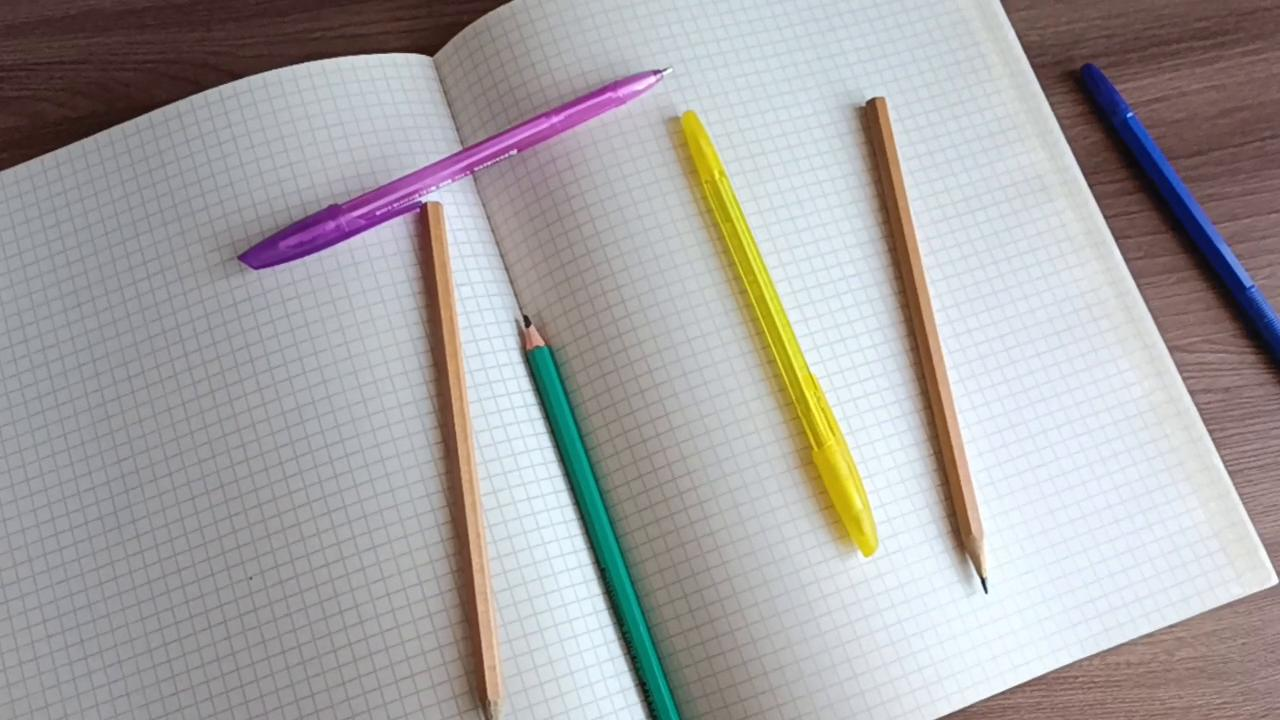pen: (676, 106, 880, 559), (236, 62, 676, 272), (1076, 55, 1280, 368)
pencil: (857, 93, 993, 597), (518, 309, 679, 720), (419, 202, 507, 720)
